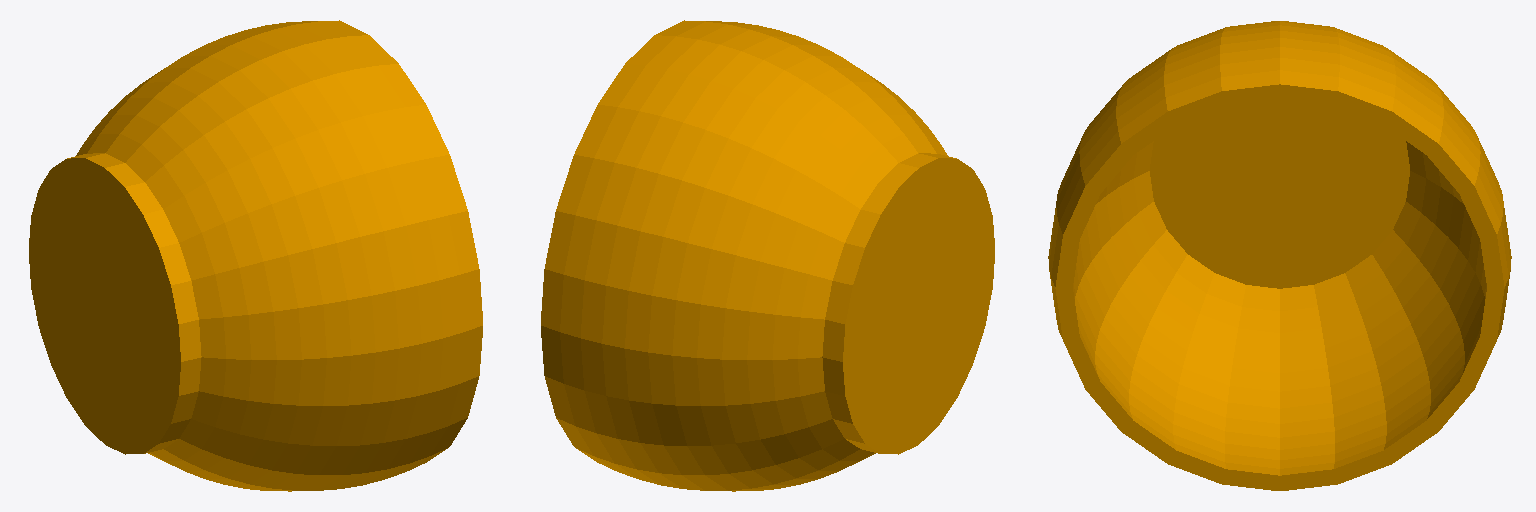
robot.urdf — obj_14:
<?xml version="1.0"?>
<robot name="obj_14">
  <link name="obj_14">
    <visual>
      <origin xyz="0.0 0.0 0.0" rpy="0 0 0"/>
      <geometry>
        <mesh filename="../mesh/ncf_mug_cupholder/obj_assets/14/obj_collision.obj" scale="1 1 1"/>
      </geometry>
    </visual>
    <collision>
      <origin xyz="0.0 0.0 0.0" rpy="0 0 0"/>
      <geometry>
        <mesh filename="../mesh/ncf_mug_cupholder/obj_assets/14/obj_collision.obj" scale="1 1 1"/>
      </geometry>
      <sdf resolution="512"/>
    </collision >    
    <inertial>
      <mass value="0.102"/>
      <inertia ixx="0.0001" ixy="0.0" ixz="0.0" iyy="0.0001" iyz="0.0" izz="0.0001"/>
    </inertial>
  </link>
</robot>

--- Render facts (derived) ---
3 views of the same robot in one strip: view 1: azimuth 30°, elevation 25°; view 2: azimuth 150°, elevation 25°; view 3: azimuth 270°, elevation 25° (orthographic).
Model obj_14 with 1 links and 0 joints (none), rooted at obj_14, posed all joints at 0.
Visible links, largest first — view 1: obj_14; view 2: obj_14; view 3: obj_14.
Boxes of the visible links, x1,y1,x2,y2 form: obj_14: (29, 20, 482, 491); obj_14: (541, 20, 994, 491); obj_14: (1048, 21, 1511, 490).
Bounding box of the posed robot: 0.0626 × 0.0964 × 0.0964 m (x, y, z).
Meshes: 1 distinct files referenced, 1 mesh visuals loaded (1 OBJ).